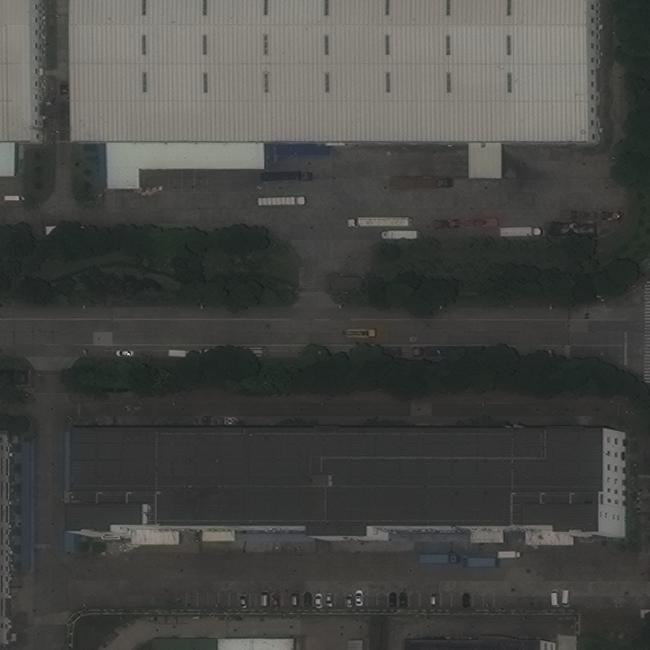parking lot: (183, 590, 498, 613)
